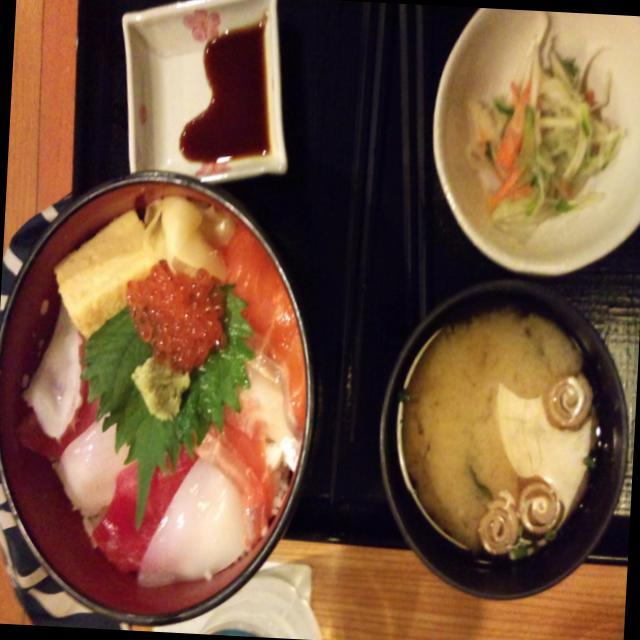Green Salad: (451, 13, 636, 260)
